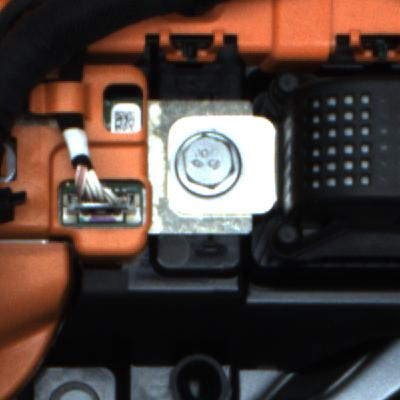nut_b: (171, 121, 247, 207)
